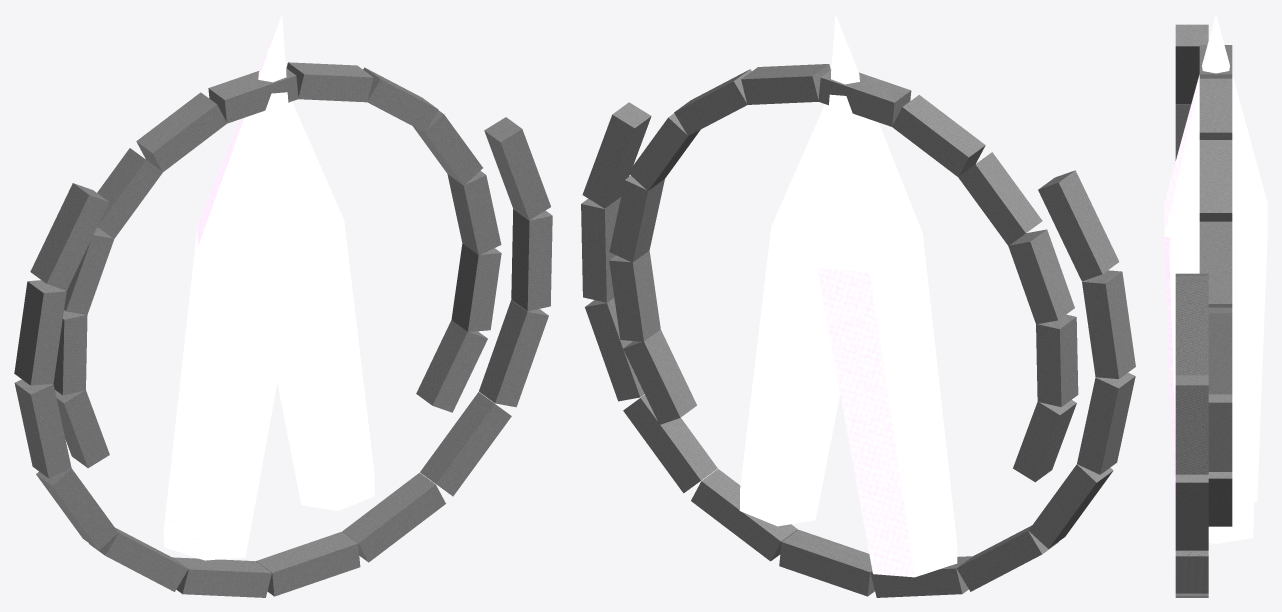
The model's file is fate-crystal.glb.
3 views of the same model, side by side, from view 1: azimuth 30°, elevation 25°; view 2: azimuth 150°, elevation 25°; view 3: azimuth 270°, elevation 25° (orthographic). The views are drawn at different scales.
Visible parts, largest first — view 1: fate-core-a, fate-core-b, thread-ring-b-0, thread-ring-b-8, thread-ring-b-9, thread-ring-b-7, thread-ring-b-1, thread-ring-b-6, thread-ring-b-10, thread-ring-b-11, thread-ring-a-7, thread-ring-b-2 (+14 smaller); view 2: fate-core-a, fate-core-b, thread-ring-b-0, thread-ring-b-1, thread-ring-b-6, thread-ring-a-9, thread-ring-a-7, thread-ring-b-2, thread-ring-b-8, thread-ring-b-11, thread-ring-a-8, thread-ring-a-0 (+14 smaller); view 3: fate-core-b, fate-core-a, thread-ring-b-11, thread-ring-b-10, thread-ring-a-4, thread-ring-a-3, thread-ring-b-9, thread-ring-a-2, thread-ring-a-5, thread-ring-b-0, thread-ring-a-1, thread-ring-b-8 (+4 smaller).
Part boxes in pixels (x1=…): fate-core-a: x1=163, y1=14, x2=299, y2=560; fate-core-b: x1=268, y1=47, x2=374, y2=510; thread-ring-b-0: x1=30, y1=183, x2=109, y2=290; thread-ring-b-8: x1=420, y1=392, x2=511, y2=496; thread-ring-b-9: x1=479, y1=300, x2=548, y2=407; thread-ring-b-7: x1=342, y1=472, x2=445, y2=562; thread-ring-b-1: x1=14, y1=280, x2=66, y2=385; thread-ring-b-6: x1=256, y1=531, x2=360, y2=596; thread-ring-b-10: x1=511, y1=209, x2=552, y2=311; thread-ring-b-11: x1=484, y1=117, x2=550, y2=220; thread-ring-a-7: x1=136, y1=92, x2=226, y2=171; thread-ring-b-2: x1=14, y1=379, x2=71, y2=478; fate-core-a: x1=817, y1=14, x2=957, y2=577; fate-core-b: x1=739, y1=48, x2=849, y2=526; thread-ring-b-0: x1=1038, y1=170, x2=1119, y2=281; thread-ring-b-1: x1=1082, y1=270, x2=1135, y2=378; thread-ring-b-6: x1=779, y1=529, x2=874, y2=596; thread-ring-a-9: x1=1008, y1=229, x2=1074, y2=324; thread-ring-a-7: x1=892, y1=95, x2=985, y2=176; thread-ring-b-2: x1=1077, y1=372, x2=1135, y2=474; thread-ring-b-8: x1=623, y1=395, x2=717, y2=493; thread-ring-b-11: x1=582, y1=102, x2=651, y2=208; thread-ring-a-8: x1=958, y1=152, x2=1042, y2=245; thread-ring-a-0: x1=623, y1=329, x2=696, y2=424; fate-core-b: x1=1169, y1=114, x2=1262, y2=543; fate-core-a: x1=1164, y1=15, x2=1267, y2=502; thread-ring-b-11: x1=1175, y1=273, x2=1208, y2=375; thread-ring-b-10: x1=1175, y1=375, x2=1208, y2=474; thread-ring-a-4: x1=1199, y1=140, x2=1232, y2=221; thread-ring-a-3: x1=1199, y1=221, x2=1232, y2=307; thread-ring-b-9: x1=1175, y1=474, x2=1208, y2=550; thread-ring-a-2: x1=1208, y1=307, x2=1232, y2=394; thread-ring-a-5: x1=1199, y1=78, x2=1232, y2=139; thread-ring-b-0: x1=1175, y1=24, x2=1208, y2=104; thread-ring-a-1: x1=1208, y1=394, x2=1232, y2=471; thread-ring-b-8: x1=1175, y1=550, x2=1208, y2=593.
Size of the model in its own units: 1.01 by 1.04 by 0.1732.
Materials: 3 (3 with a texture image).
